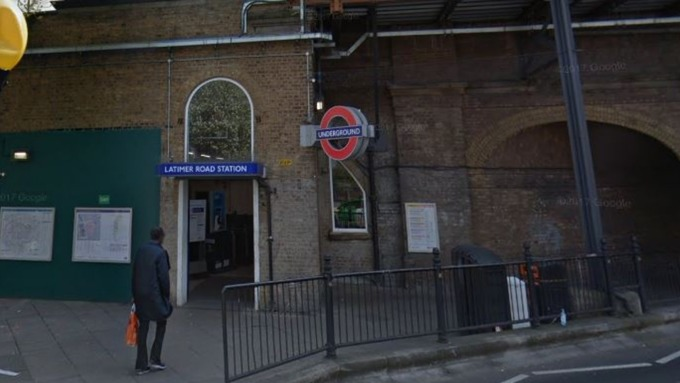London Underground: (319, 105, 370, 161)
